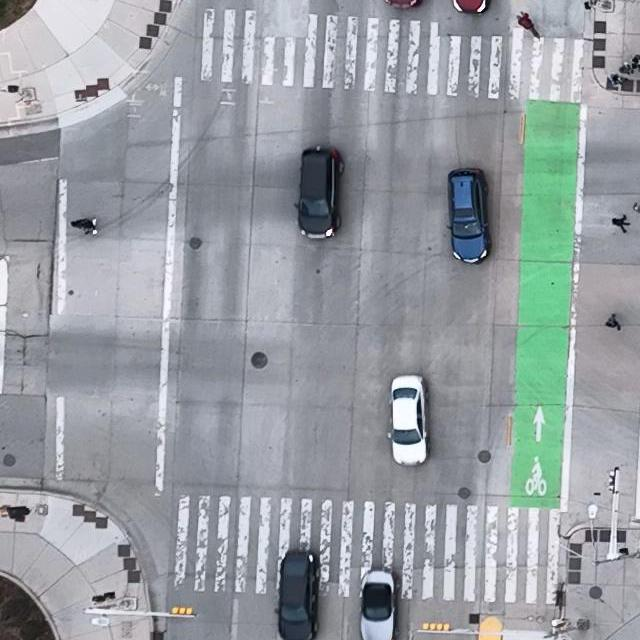car: (294, 145, 345, 240), (447, 168, 491, 265), (274, 548, 320, 640), (388, 375, 429, 467), (359, 570, 397, 640), (452, 0, 489, 13)
